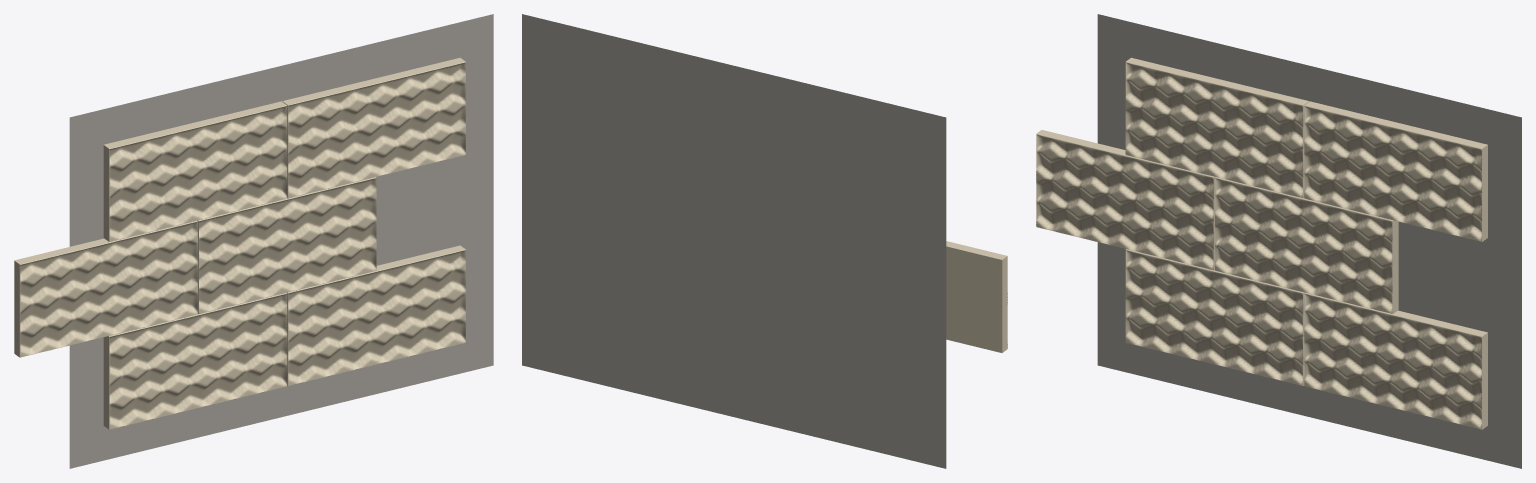
File: terilgan.glb
3 views of the same model, side by side, from view 1: azimuth 30°, elevation 25°; view 2: azimuth 150°, elevation 25°; view 3: azimuth 330°, elevation 25° (orthographic).
Visible parts, largest first — view 1: Plane, t2_0, t1_0, t2_1, t0_0, t0_1, t1_1; view 2: Plane, t1_0; view 3: Plane, t2_1, t2_0, t0_1, t1_1, t1_0, t0_0.
Part boxes in pixels (x1,y1,x2,y2): Plane: [69, 14, 493, 468]; t2_0: [103, 101, 287, 241]; t1_0: [14, 220, 197, 357]; t2_1: [282, 57, 465, 198]; t0_0: [103, 293, 287, 429]; t0_1: [287, 245, 465, 385]; t1_1: [197, 177, 376, 313]; Plane: [522, 14, 946, 468]; t1_0: [946, 241, 1007, 352]; Plane: [1097, 14, 1521, 468]; t2_1: [1304, 101, 1487, 241]; t2_0: [1125, 57, 1309, 198]; t0_1: [1304, 292, 1487, 429]; t1_1: [1215, 177, 1398, 313]; t1_0: [1036, 130, 1214, 270]; t0_0: [1125, 249, 1304, 385].
Size of the model in its own units: 2.16 by 1.51 by 0.047.
